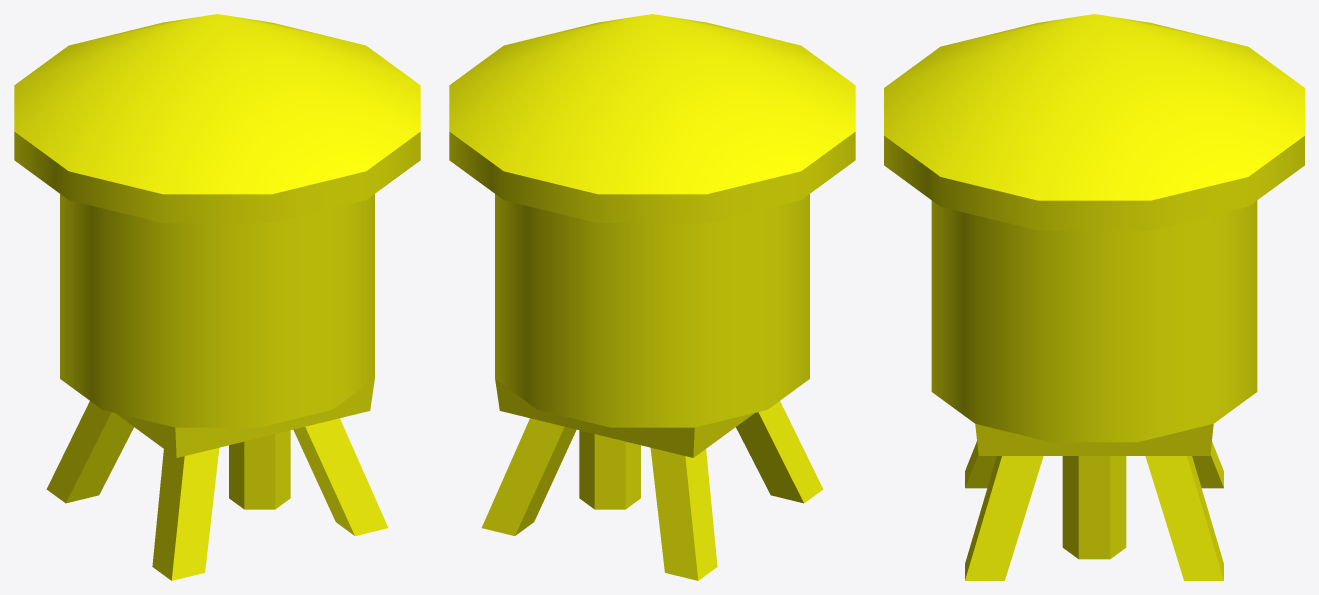
Rendered from kaykit-watertower.glb.
The picture shows the model from 3 angles, left to right: view 1: azimuth 30°, elevation 25°; view 2: azimuth 150°, elevation 25°; view 3: azimuth 270°, elevation 25°; orthographic projection. The views are drawn at different scales.
Parts seen in each view (by area): view 1: watertower; view 2: watertower; view 3: watertower.
Boxes of the visible parts, left/top/right/bottom form: watertower: left=14, top=14, right=420, bottom=580; watertower: left=449, top=14, right=855, bottom=580; watertower: left=884, top=14, right=1304, bottom=580.
Bounding box in the file's own units: 0.4989 × 0.67 × 0.4989.
